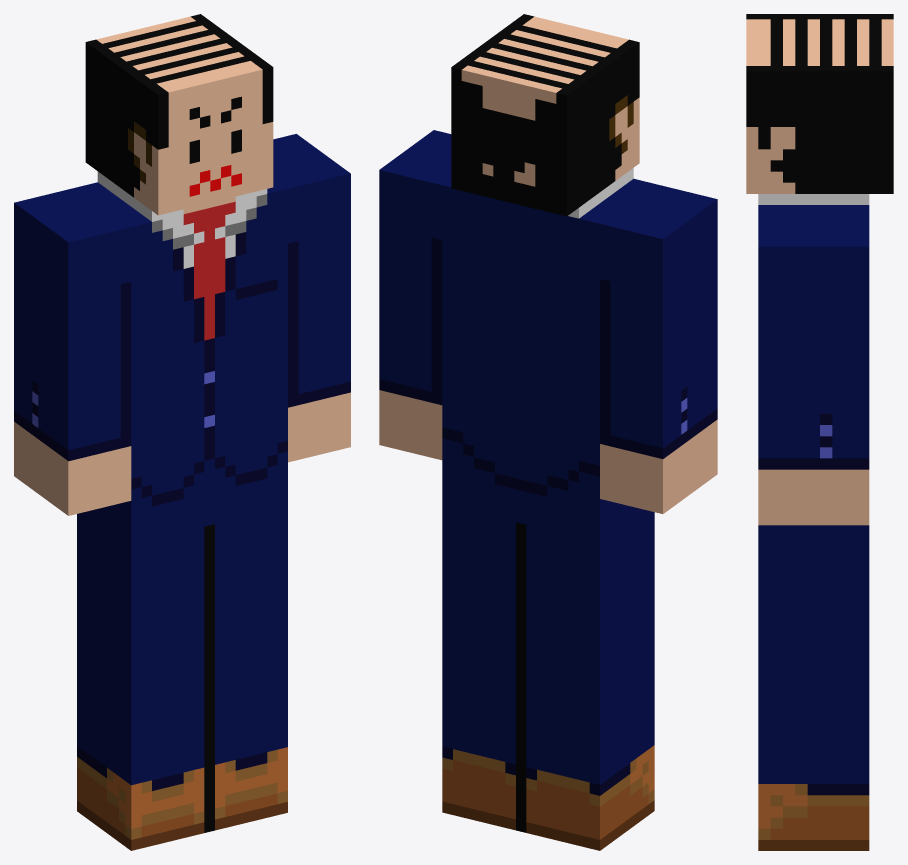
File: ri-man.oko.obj
3 views of the same model, side by side, from view 1: azimuth 30°, elevation 25°; view 2: azimuth 150°, elevation 25°; view 3: azimuth 270°, elevation 25° (orthographic).
Bounding box in the file's own units: 2.7 × 6.9 × 1.2.
Materials: 1 (1 with a texture image).
